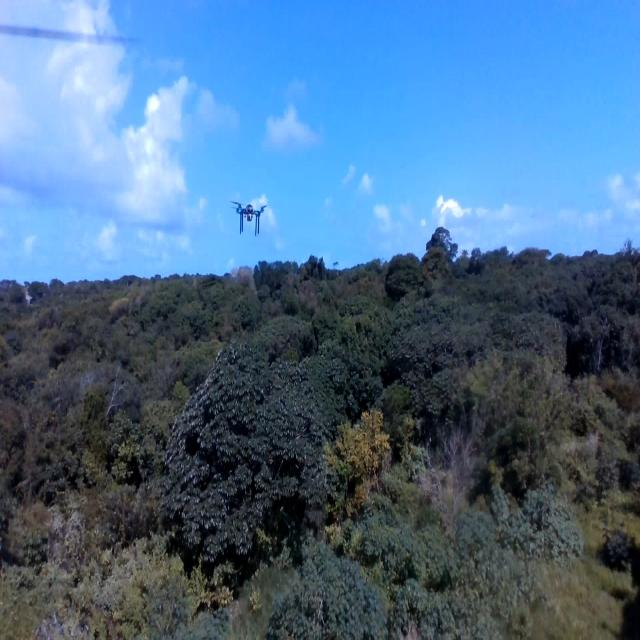-uav-: (229, 190, 271, 240)
